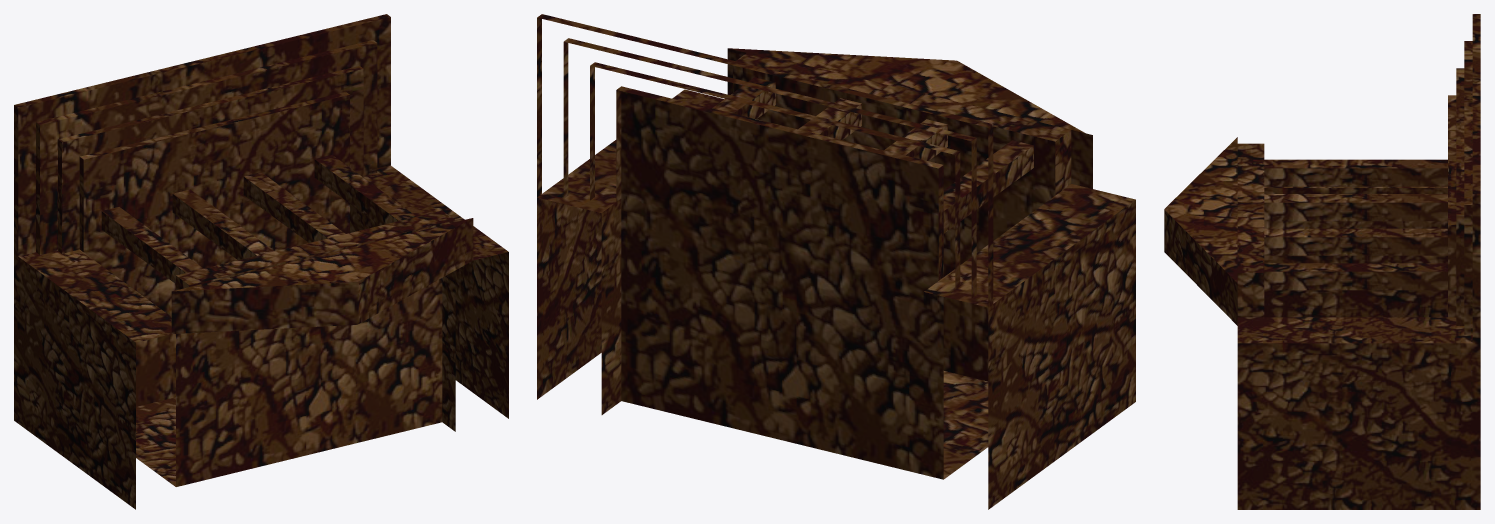
The model's file is temple107_wtf.obj.
3 renders of one model, left to right at view 1: azimuth 30°, elevation 25°; view 2: azimuth 150°, elevation 25°; view 3: azimuth 270°, elevation 25°, orthographic. The views are drawn at different scales.
Visible parts, largest first — view 1: group4, group3; view 2: group4, group3; view 3: group3, group4.
Boxes of the visible parts, x1=… form: group4: x1=18, y1=17, x2=508, y2=486; group3: x1=14, y1=14, x2=508, y2=509; group4: x1=537, y1=48, x2=1135, y2=479; group3: x1=537, y1=14, x2=1135, y2=509; group3: x1=1164, y1=14, x2=1480, y2=509; group4: x1=1164, y1=137, x2=1472, y2=343.
Bounding box in the file's own units: 660 × 534 × 487.
